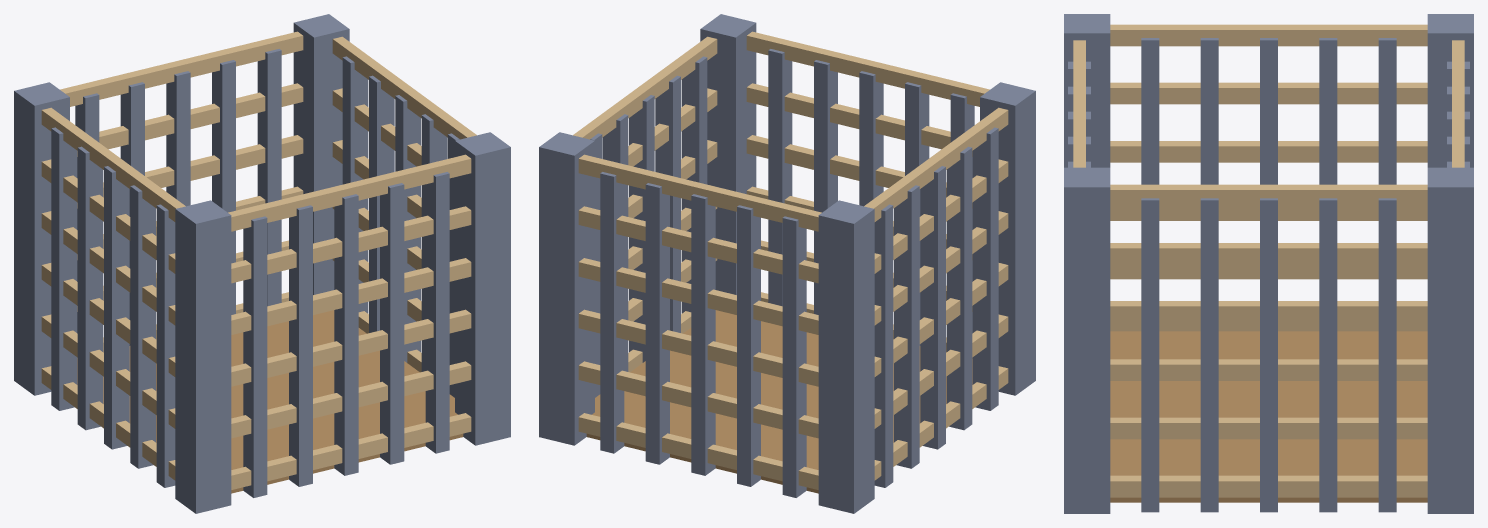
Rendered from box_big.glb.
3 renders of one model, left to right at view 1: azimuth 30°, elevation 25°; view 2: azimuth 150°, elevation 25°; view 3: azimuth 270°, elevation 25°, orthographic. The views are drawn at different scales.
Parts seen in each view (by area): view 1: box_big; view 2: box_big; view 3: box_big.
Part boxes in pixels (x1,y1,x2,y2): box_big: [14, 14, 510, 513]; box_big: [539, 14, 1035, 513]; box_big: [1064, 14, 1473, 513].
Bounding box in the file's own units: 1.25 × 1.1 × 1.25.
